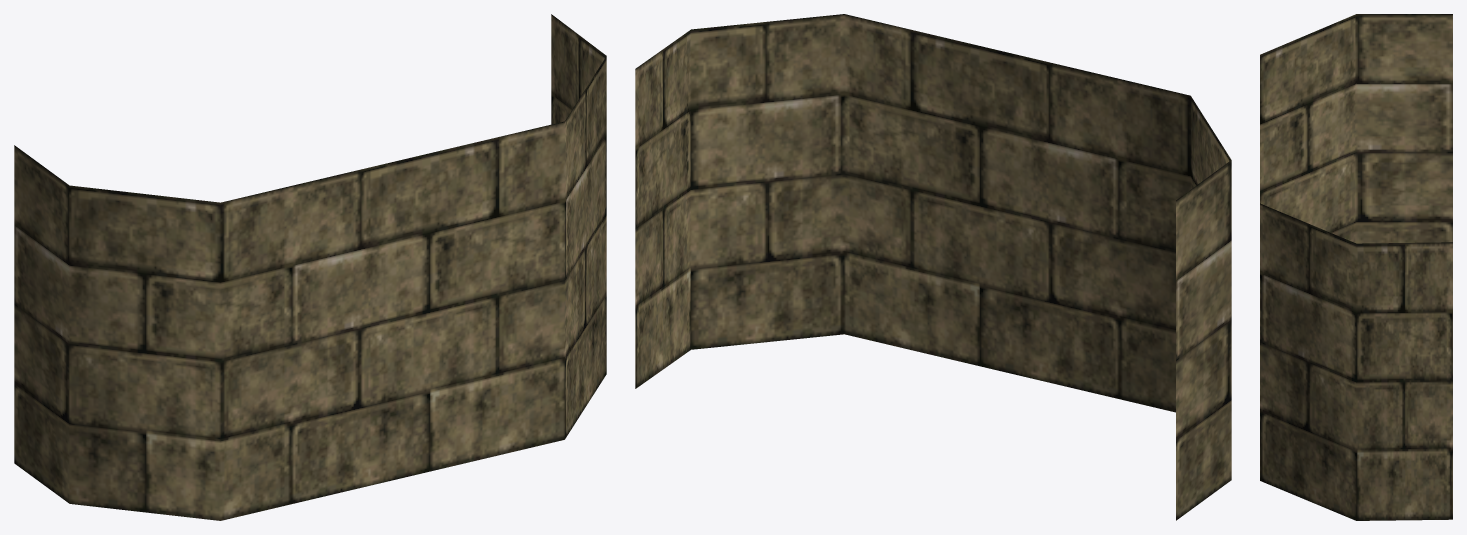
File: OVERHILL_A_01_LINE218.fbx
3 renders of one model, left to right at view 1: azimuth 30°, elevation 25°; view 2: azimuth 150°, elevation 25°; view 3: azimuth 270°, elevation 25°, orthographic. The views are drawn at different scales.
Visible parts, largest first — view 1: OVERHILL_A_01_LINE218; view 2: OVERHILL_A_01_LINE218; view 3: OVERHILL_A_01_LINE218.
Part boxes in pixels (box(x1,y1,x2,y2)): OVERHILL_A_01_LINE218: box(14, 14, 606, 520); OVERHILL_A_01_LINE218: box(635, 14, 1231, 520); OVERHILL_A_01_LINE218: box(1260, 14, 1452, 520).
Size of the model in its own units: 56088 by 32053 by 20000.
1 material, 1 textured.
